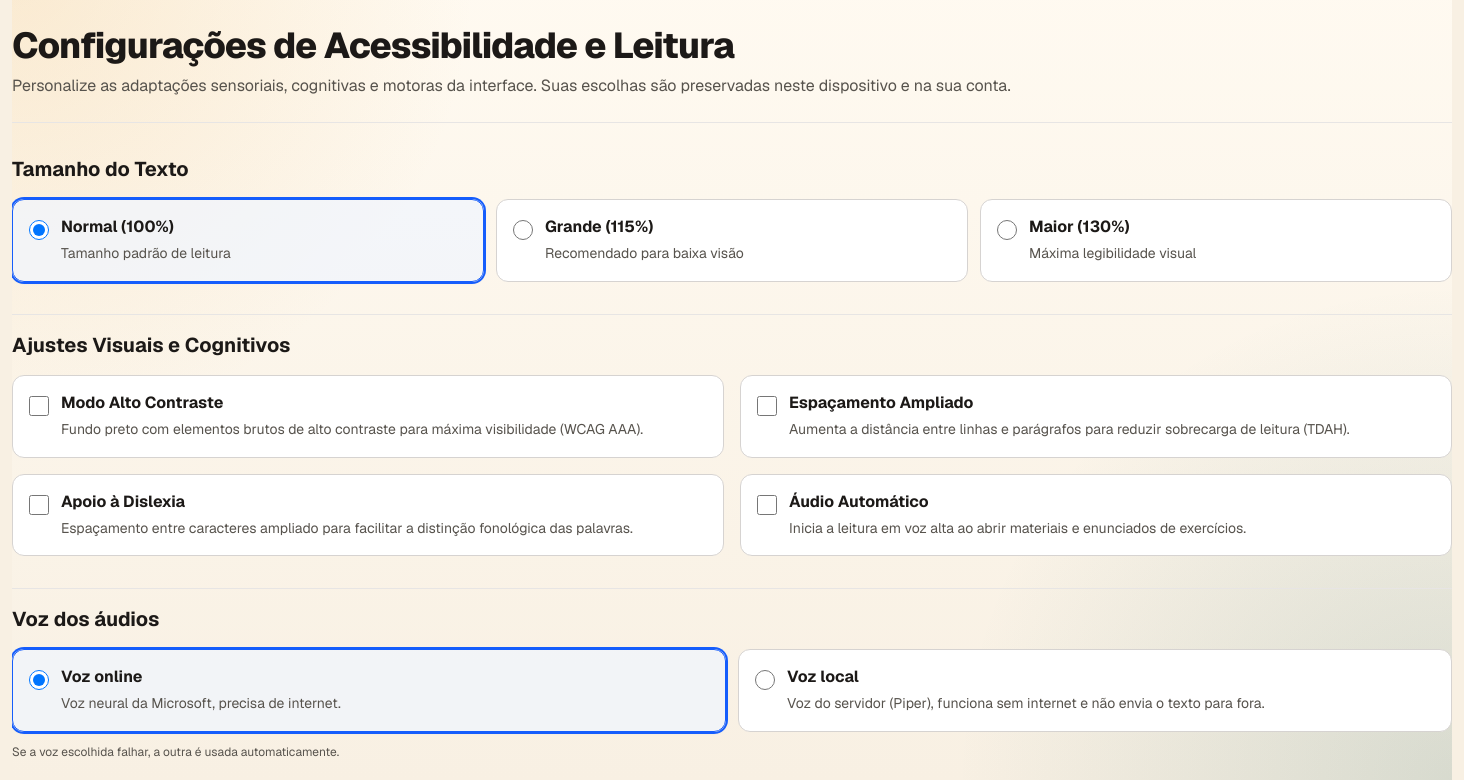
Test: ConfiguracoesAcessibilidadePage - Voz dos áudios › saves the chosen voice engine to the server and reloads the session
What coordinates should you click on to do the following:
click the radio button labelled "Voz local"
I would click on:
 (765, 680)
Its box is [755,670,775,690].
(page scrolled)
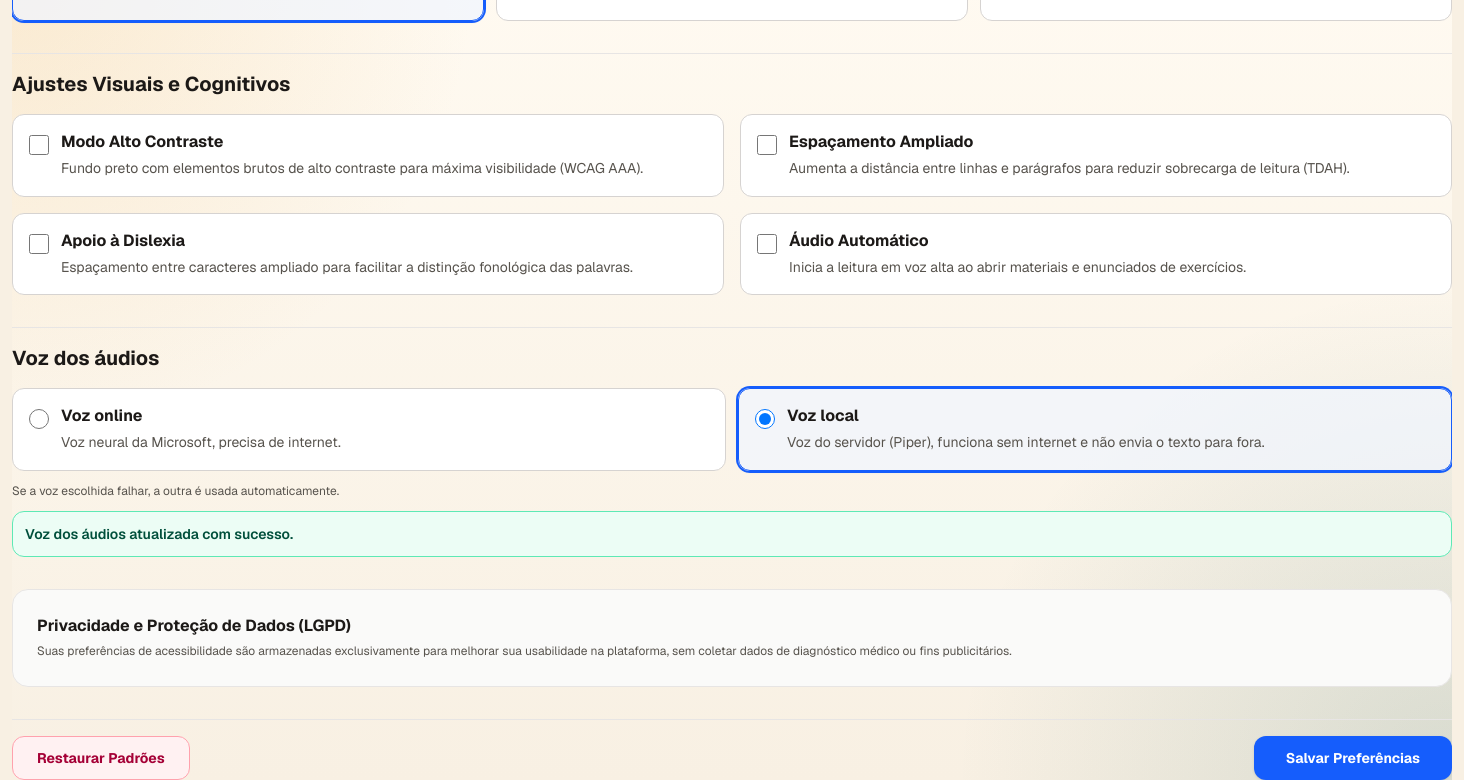
Result: the message reads "Voz dos áudios atualizada com sucesso." at [25,525,293,543]
